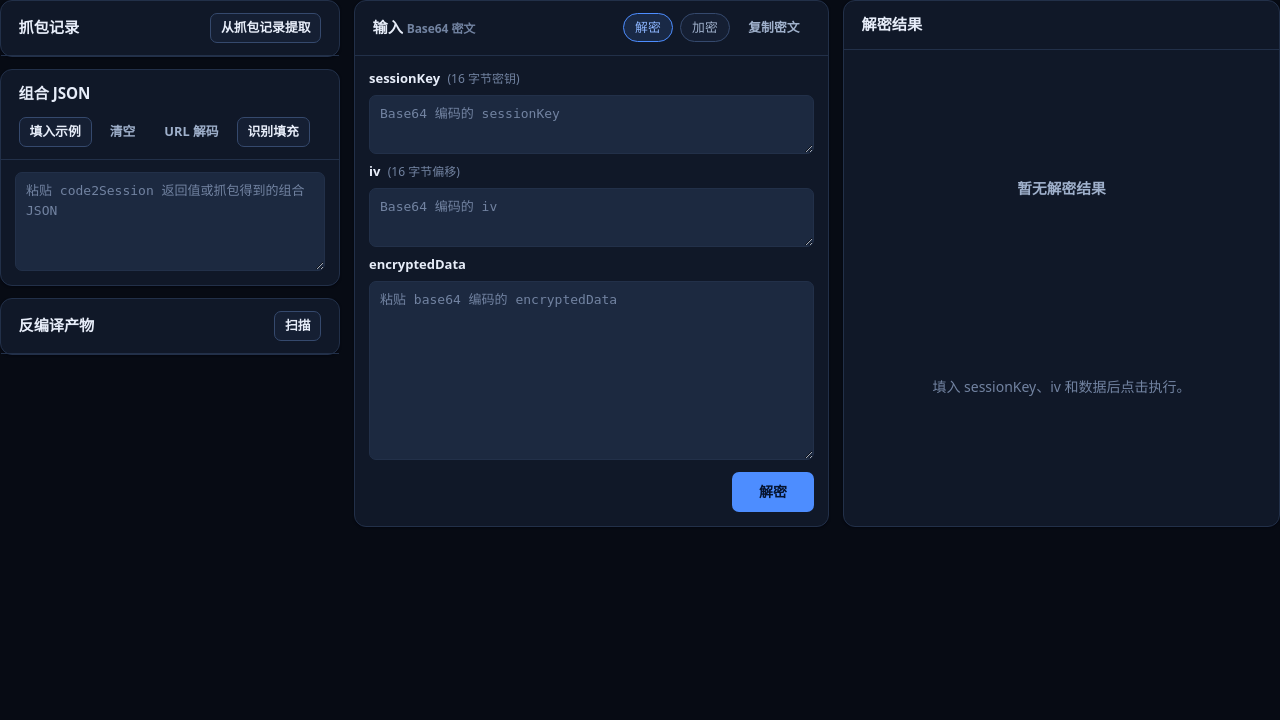
Test: SessionKeyView › extracts crypto fields from captured packets and fills the matching input
This screenshot has width=1280, height=720.
Click the button with test id "scan-traffic" at point(266, 28), box [210, 13, 321, 43]
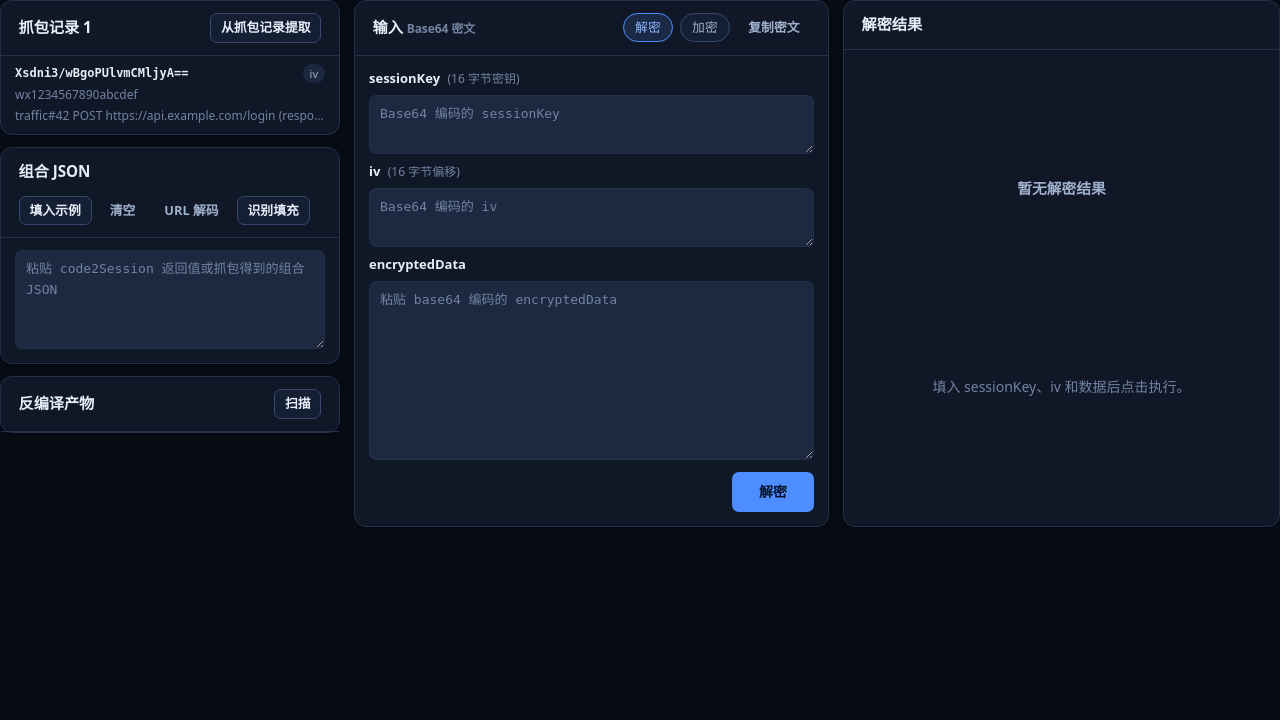
Now the element with test id "traffic-finding-0" shows "Xsdni3", box [15, 66, 188, 80]
Click the element with test id "traffic-finding-0" at point(102, 73), box [1, 56, 339, 134]
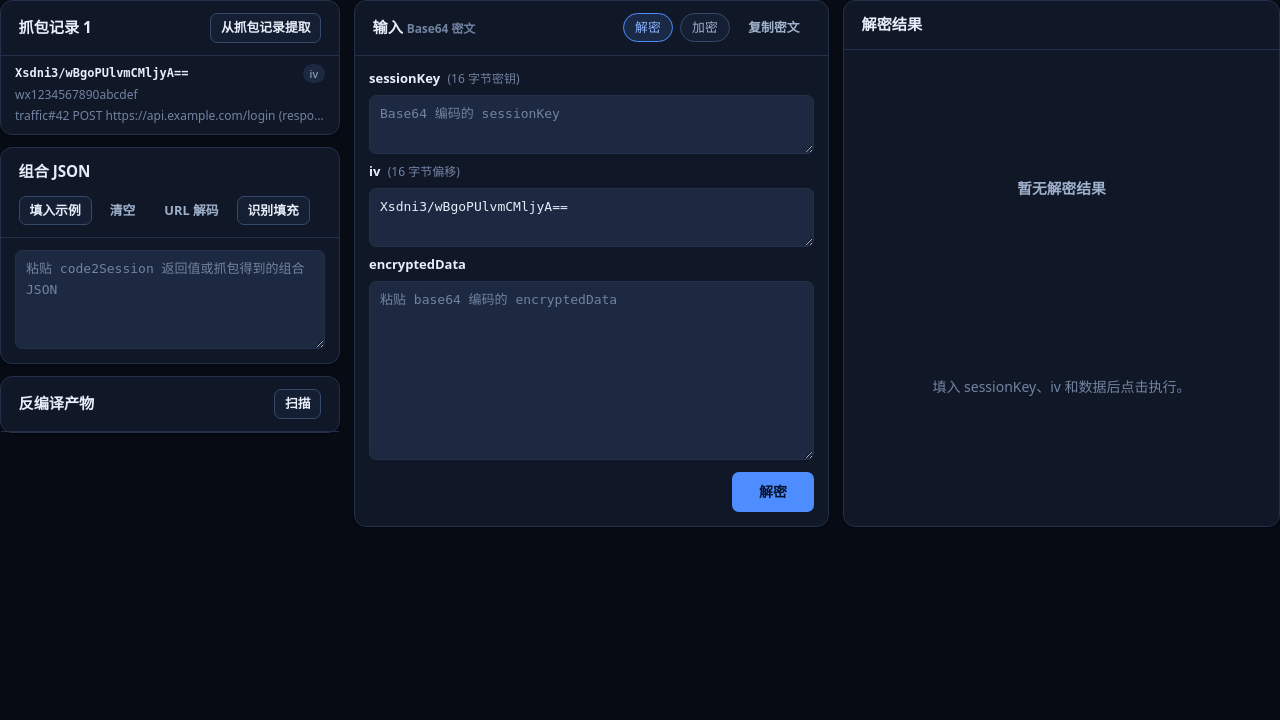
Now the text box with test id "input-iv" holds "Xsdni3/wBgoPUlvmCMljyA==", box [369, 188, 814, 247]
